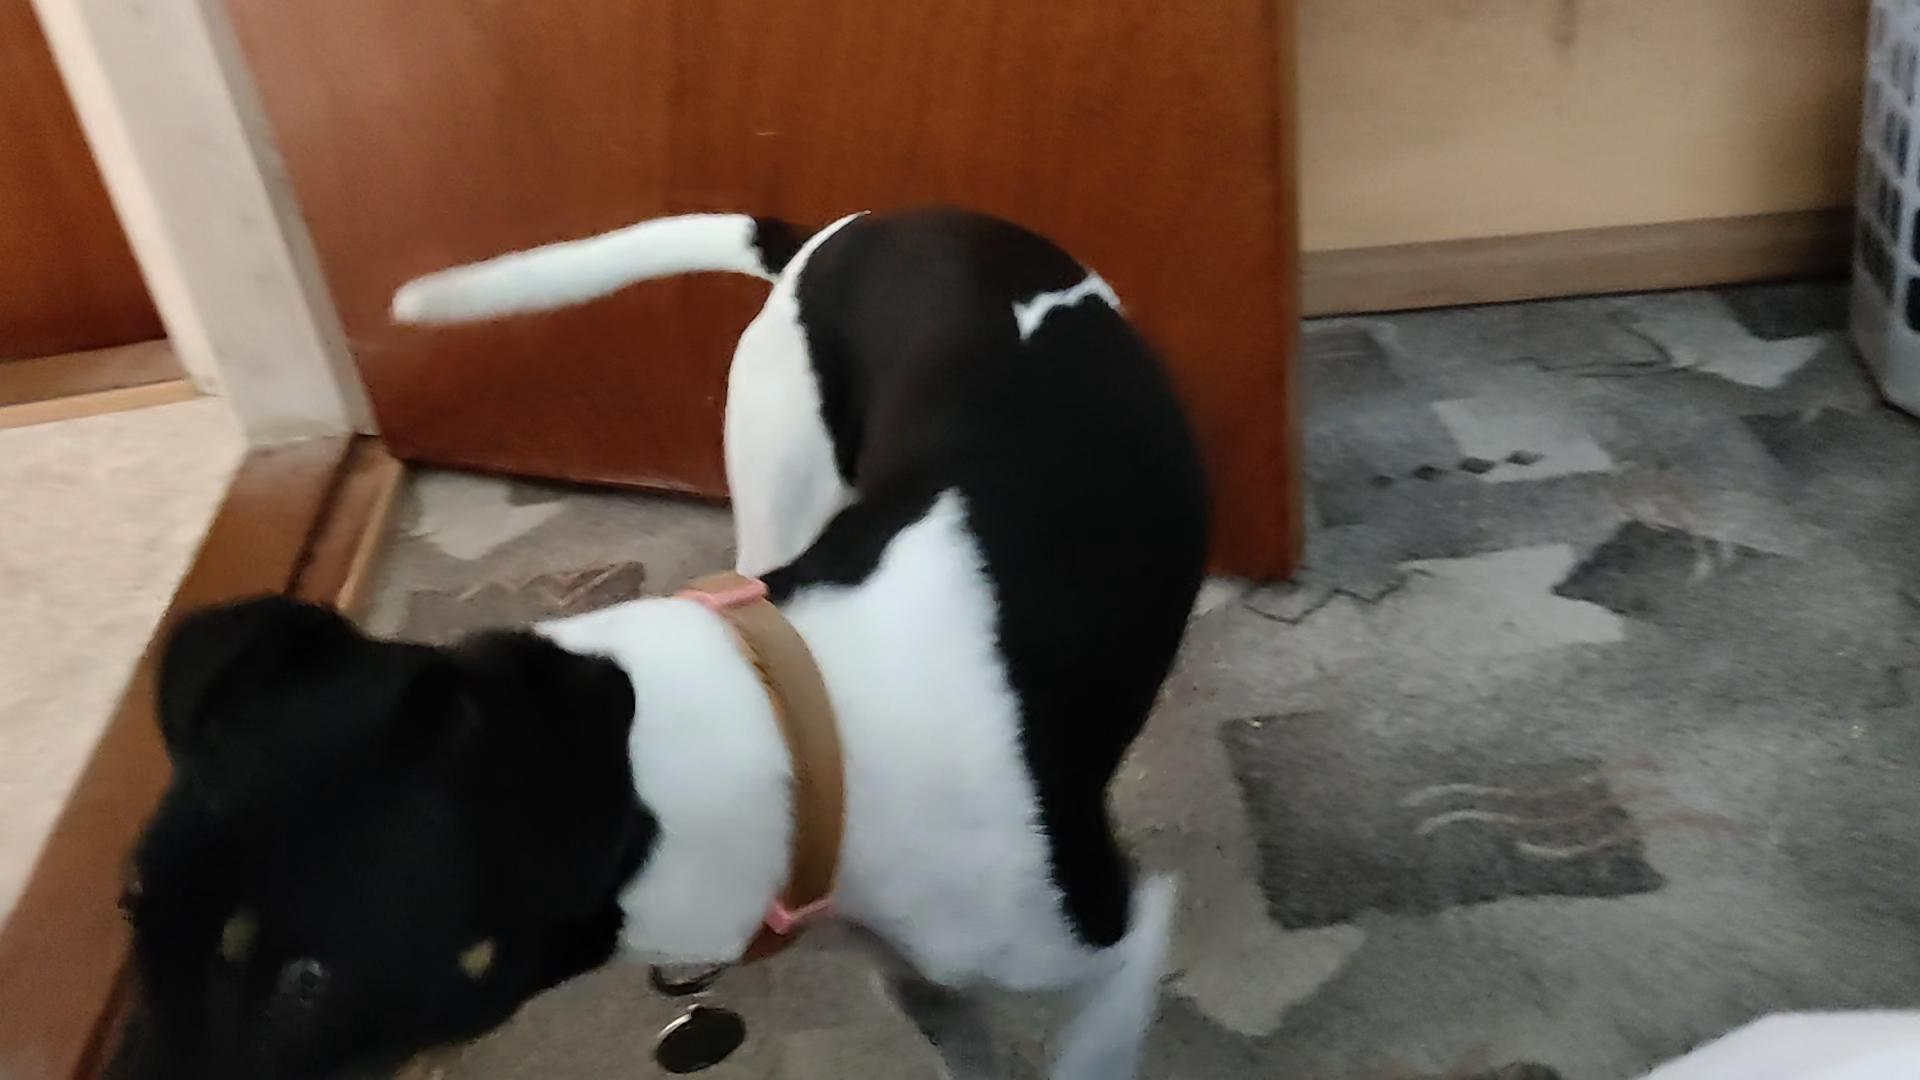Dog: (69, 189, 1294, 1079)
